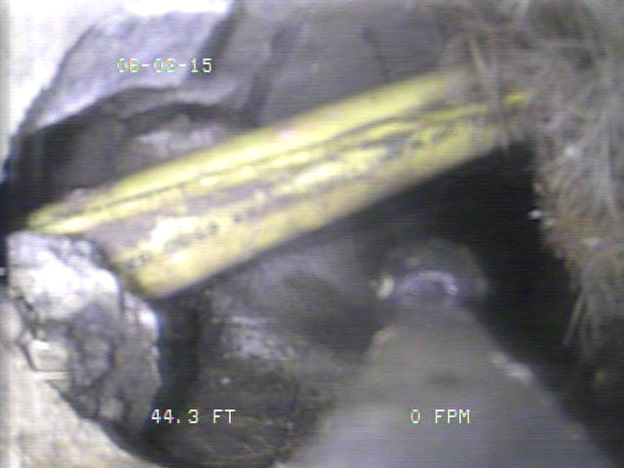cb: (44, 61, 523, 311)
